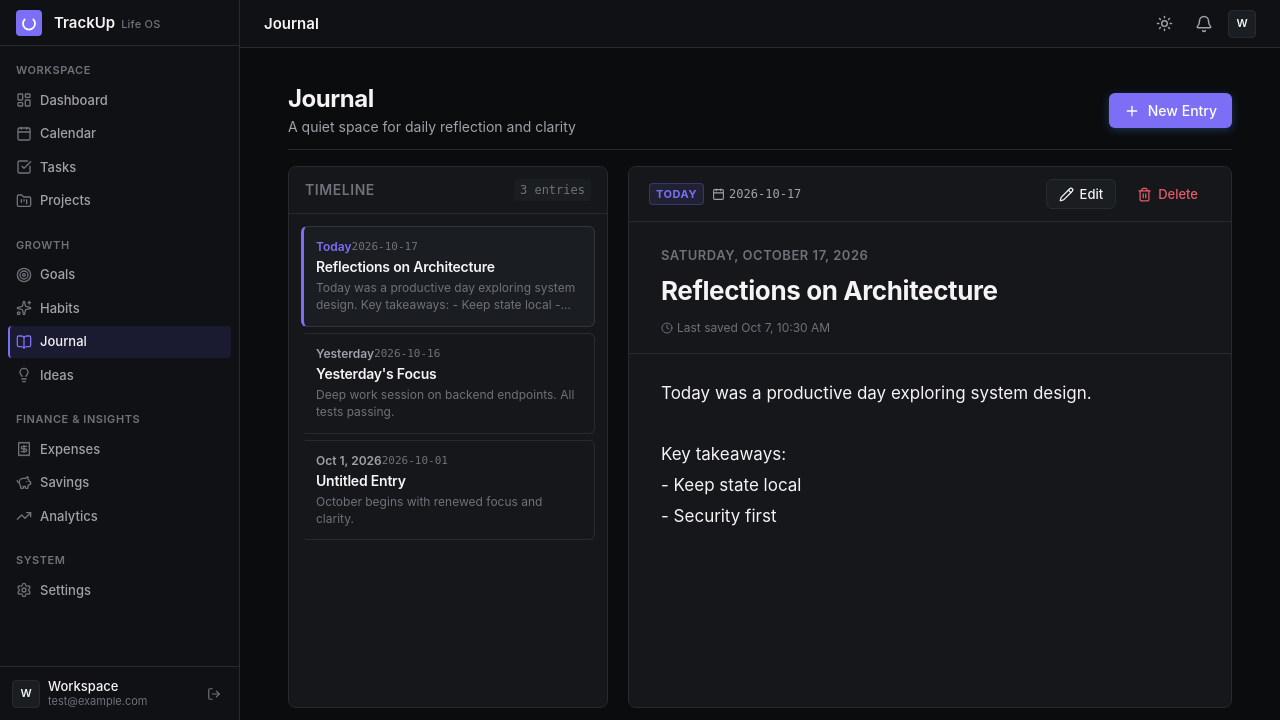
Test: Milestone H02-D: Journal Frontend Vertical Slice › Read Entry & Timeline Navigation › switches reader when selecting an entry from timeline
Expected: the heading "Reflections on Architecture" below "Saturday, October 17, 2026" is shown, [661,274,998,306]
Step 1. Click the button with aria-label "View entry for Yesterday: Yesterday's Focus" → (345, 353), box [301,333,595,434]
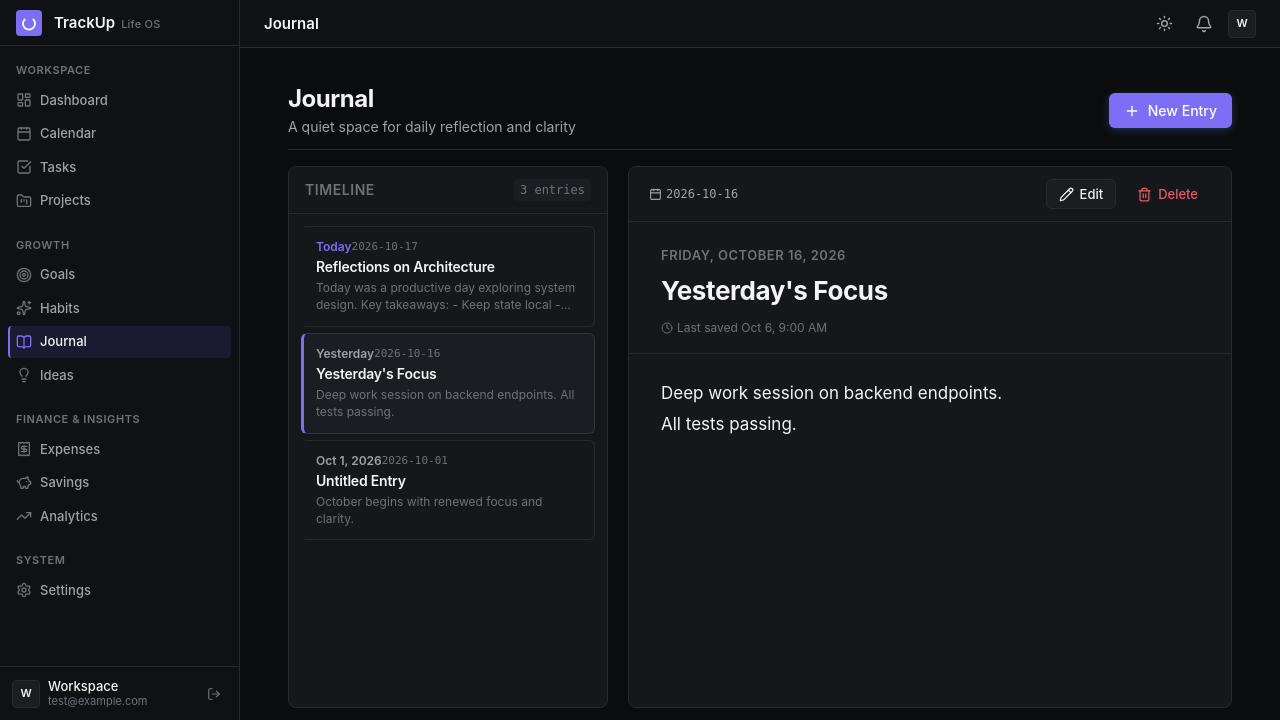
Now the heading "Yesterday's Focus" below "Friday, October 16, 2026" is shown, box [661,274,888,306]
Now the text with class "reader-content-text" shows "Deep work session on backend endpoints.", box [661,383,1002,434]
